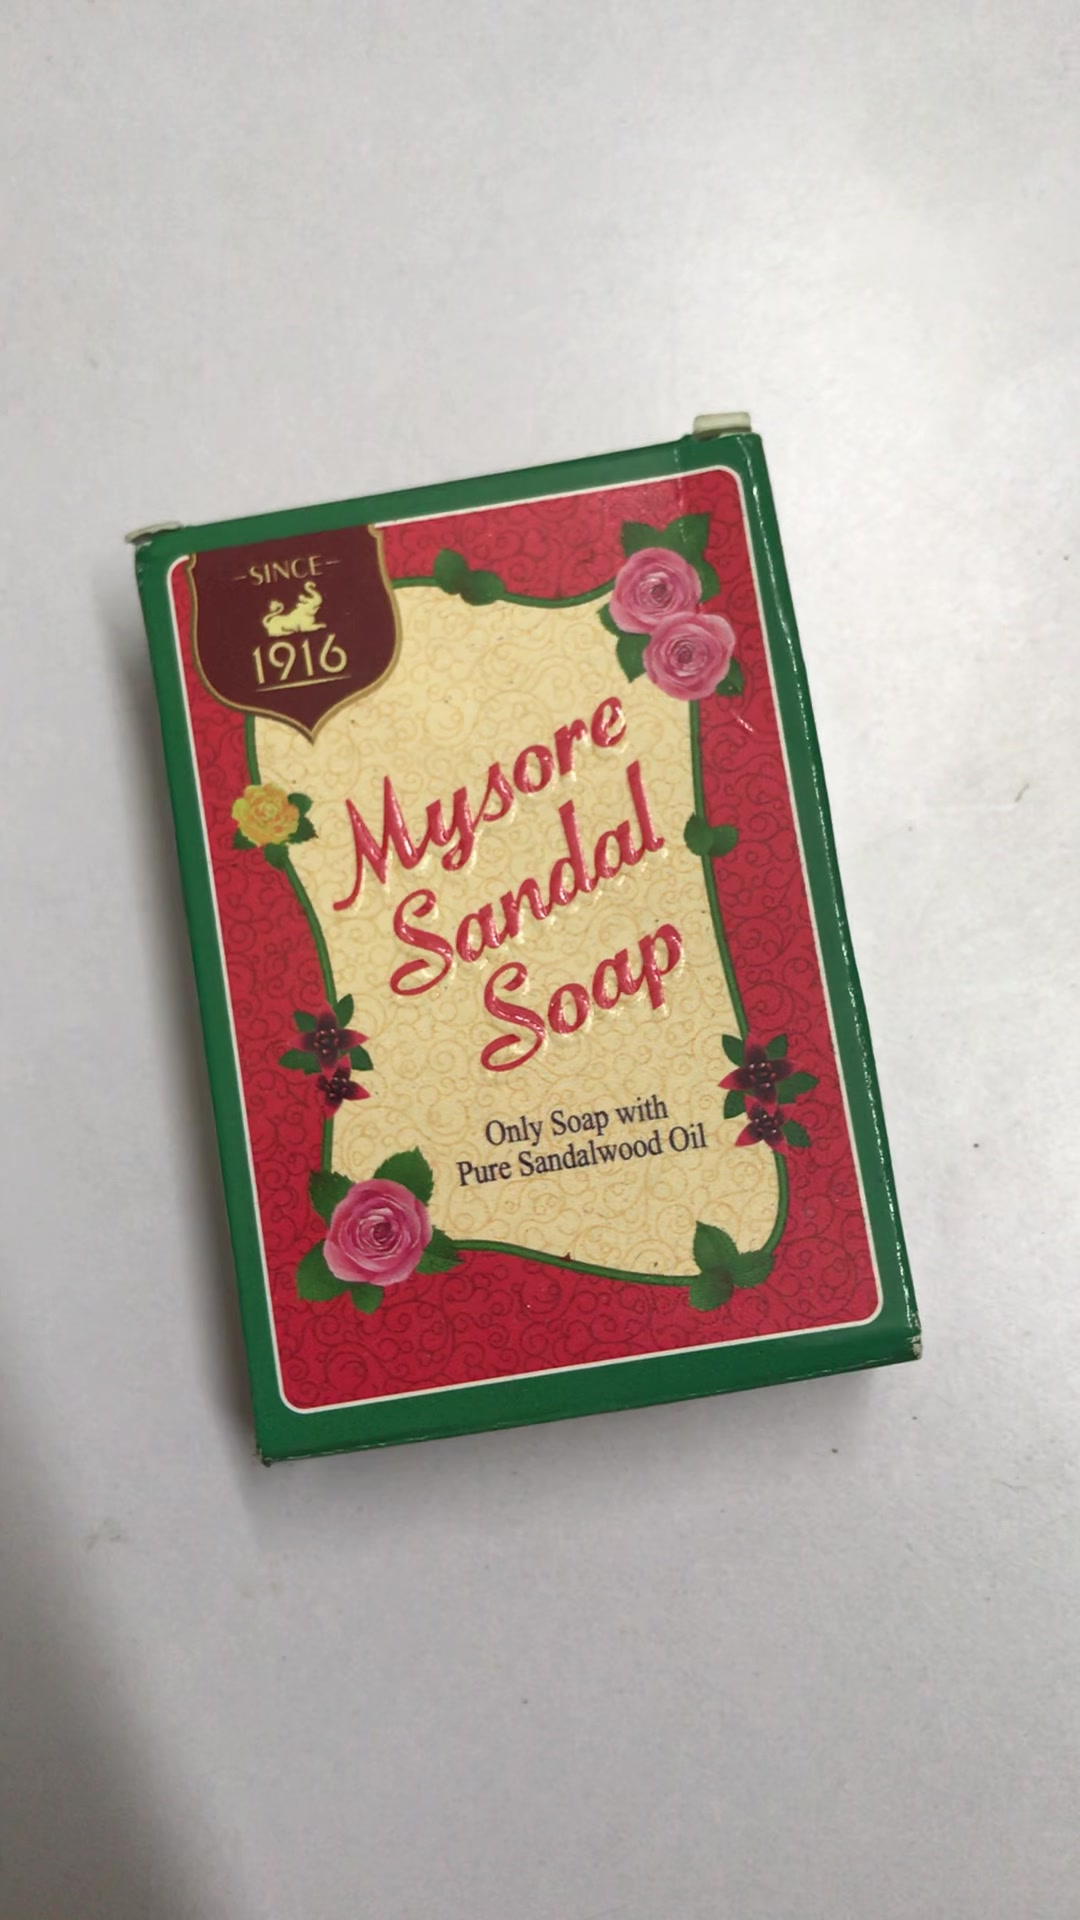mysore sandal soap: (140, 433, 922, 1472)
